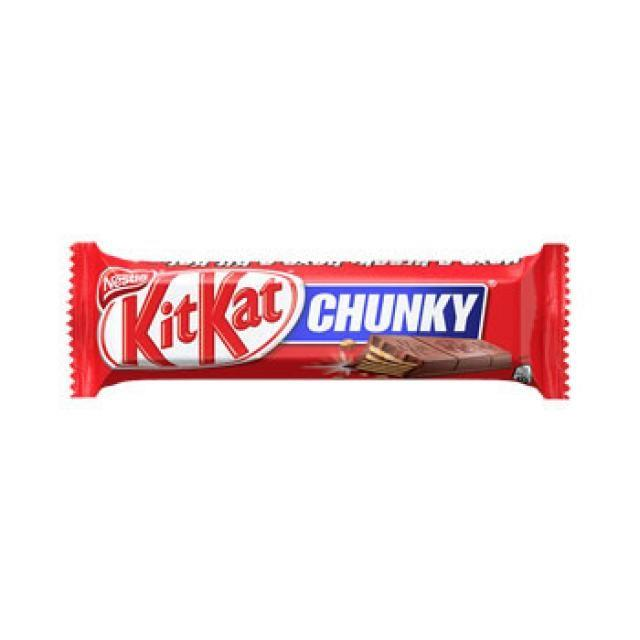kitkat_chocolate: (75, 250, 570, 398)
